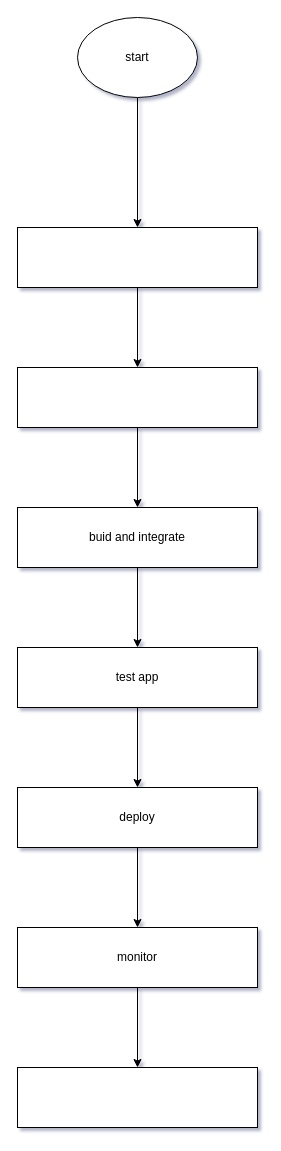
The diagram is 281 pixels wide and 1151 high, and some of its shapes have lost their labels. The centre of each missing label's shape, as x and y in pixels:
code app(costomer,delivery partner module: point 137,397
feedback and updates: point 137,1097
plan features(listing,live payments and tracking): point 137,257
